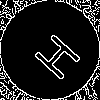H: (25, 25, 83, 83)
